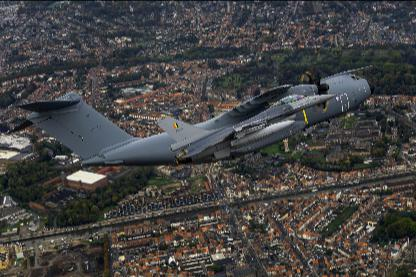A400M: (5, 64, 376, 166)
F14: (155, 92, 343, 162)
